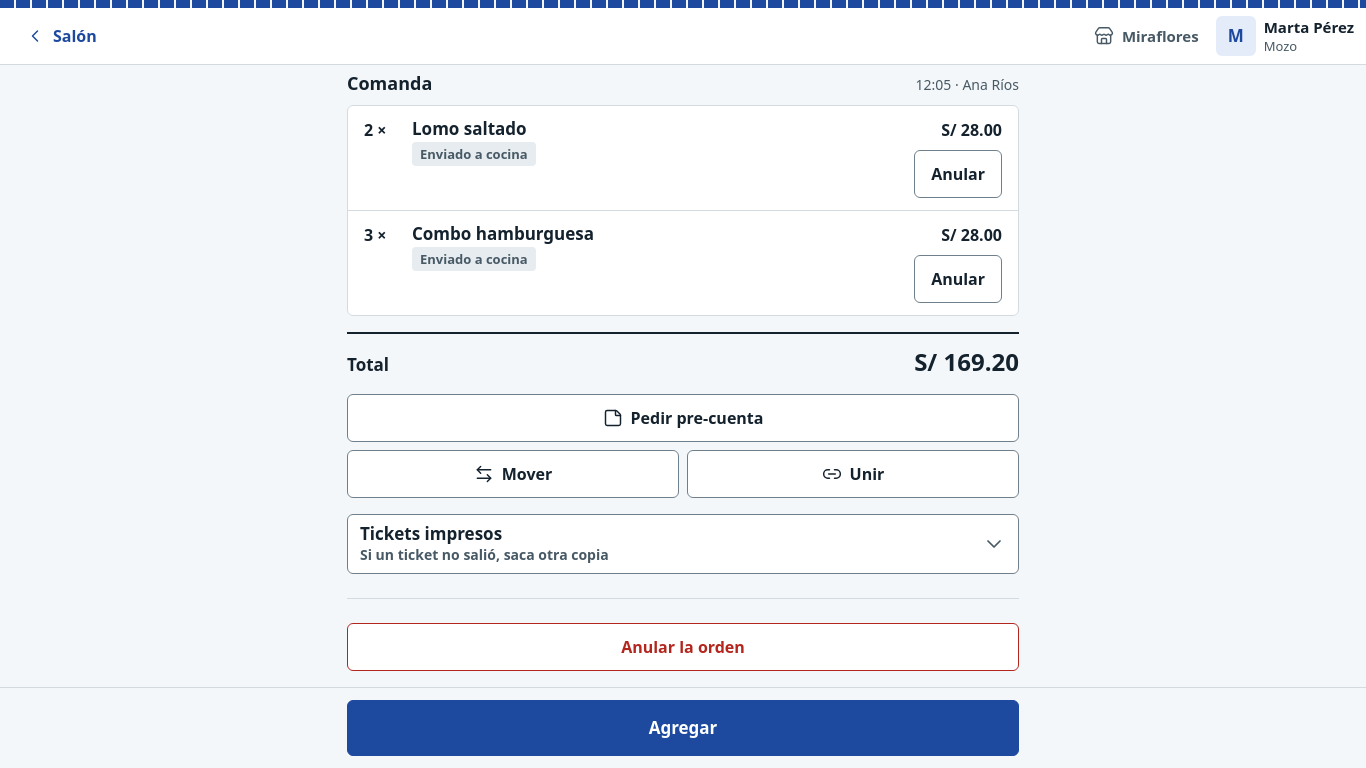
Scenario: Pedir la pre-cuenta (criterios 50 y 95) › manda el pedido con un id propio y su clave, y muestra el detalle con cifras tabulares
(page scrolled)
Click the button "Pedir pre-cuenta". click: point(683, 418)
box: [347, 394, 1019, 442]
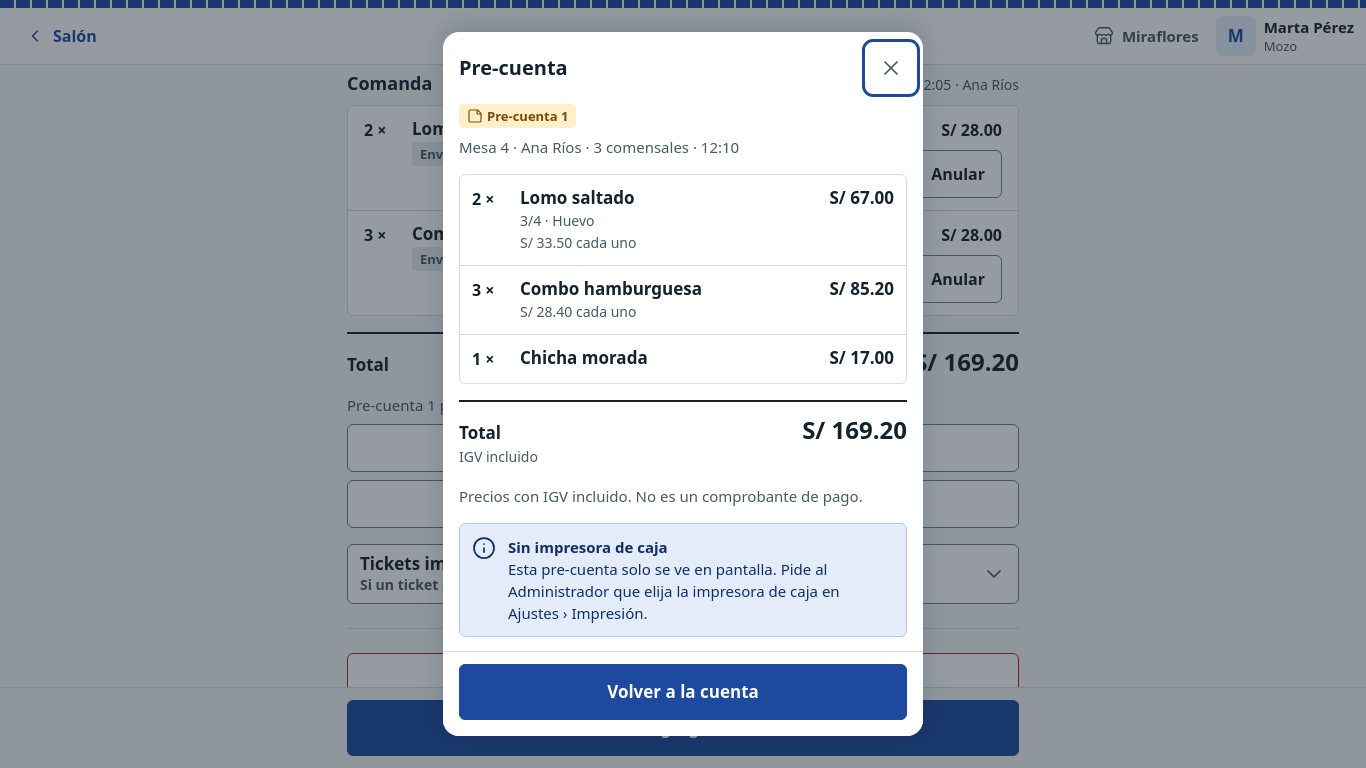
Expected: the text "Pre-cuenta 1" is shown, [459, 104, 576, 128]
Expected: the dialog "Pre-cuenta" shows "Mesa 4 · Ana Ríos · 3 comensales", [459, 137, 739, 157]
Expected: the list item "2 × Lomo saltado 3/4 · Huevo S/ 33.50 cada uno S/ 67.00" is shown, [460, 175, 906, 265]
